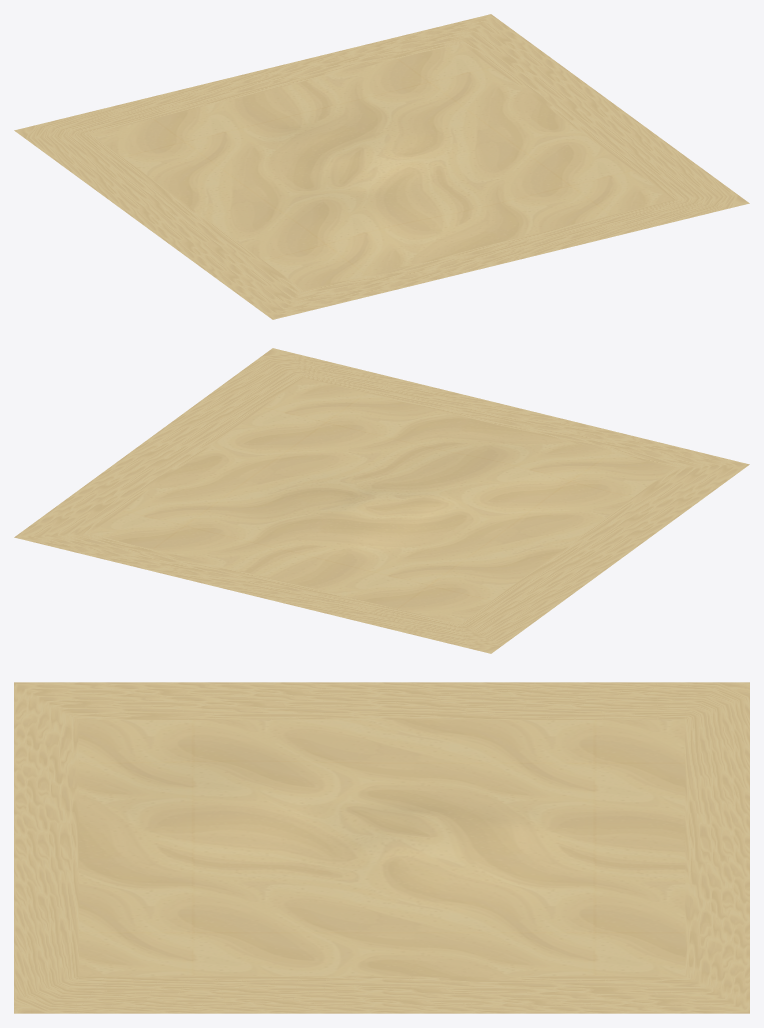
The model's file is TerrainB.fbx.
The picture shows the model from 3 angles, top to bottom: view 1: azimuth 30°, elevation 25°; view 2: azimuth 150°, elevation 25°; view 3: azimuth 270°, elevation 25°; orthographic projection. The views are drawn at different scales.
Visible parts, largest first — view 1: TerrainB; view 2: TerrainB; view 3: TerrainB.
Part boxes in pixels (x1,y1,x2,y2): TerrainB: (14, 14, 749, 319); TerrainB: (14, 348, 749, 653); TerrainB: (14, 682, 749, 1013).
Size of the model in its own units: 23692 by 339 by 22255.
